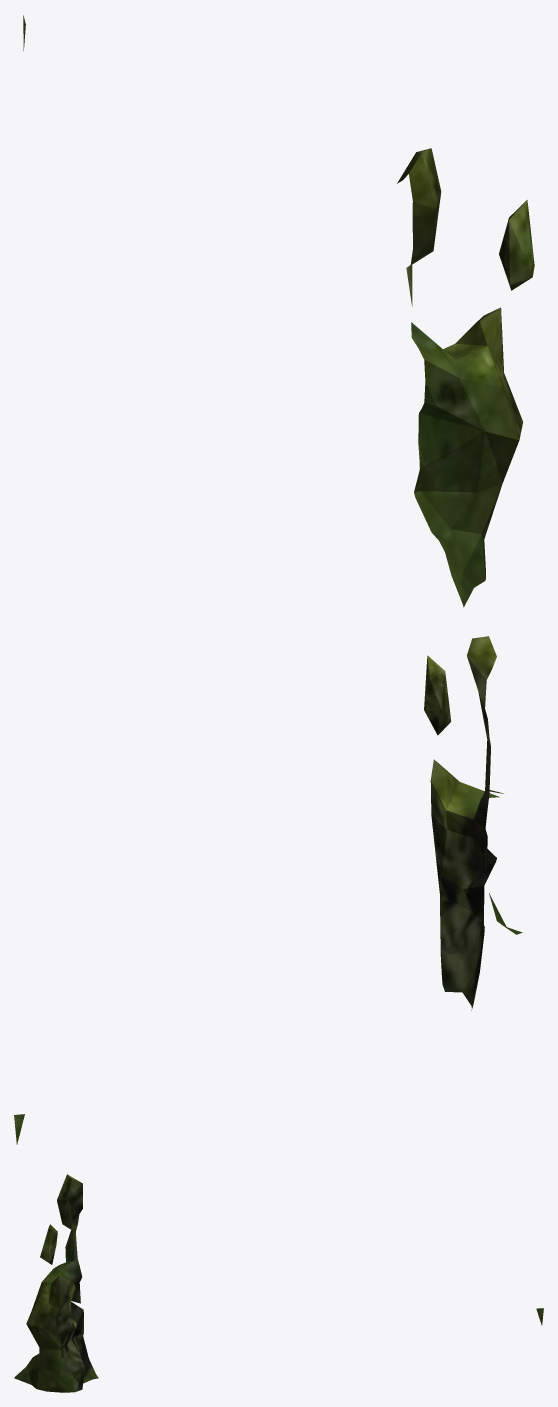
3 views of the same model, one above another, from view 1: azimuth 30°, elevation 25°; view 2: azimuth 150°, elevation 25°; view 3: azimuth 270°, elevation 25° (orthographic). The views are drawn at different scales.
Size of the model in its own units: 0.1708 by 0.639 by 1.48.
Materials: 1 (1 with a texture image).
